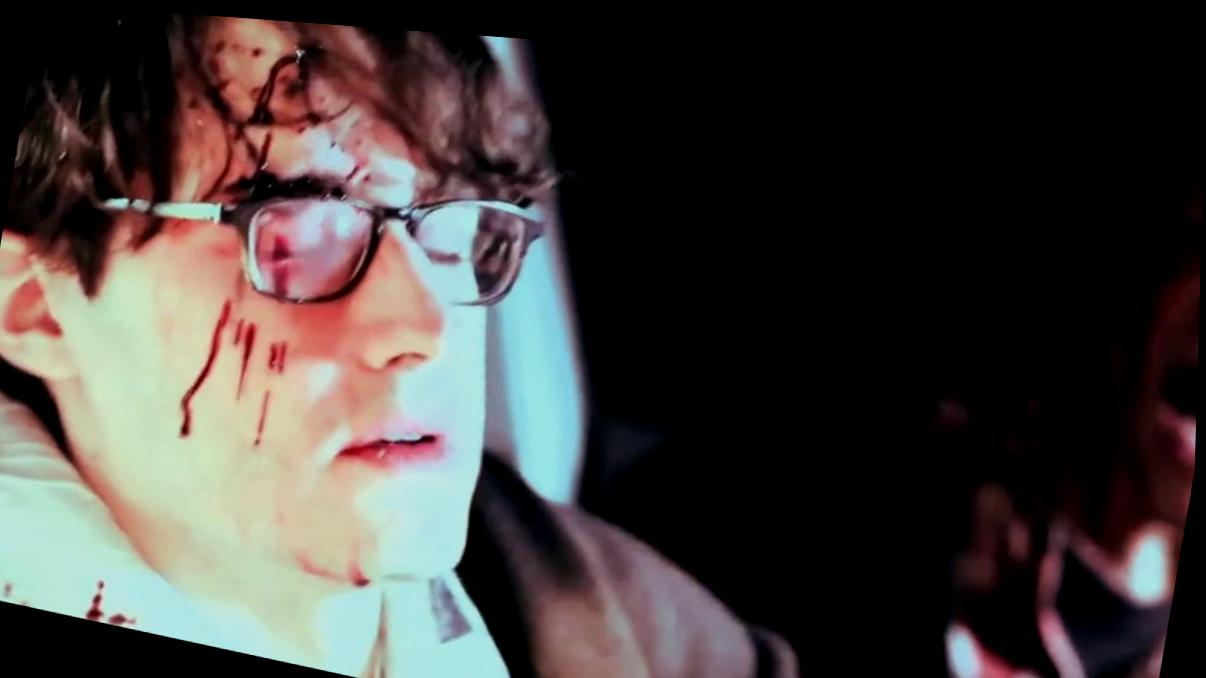Fire: (170, 12, 351, 197), (1091, 304, 1198, 575), (181, 294, 231, 433), (263, 204, 299, 292), (86, 578, 139, 624), (232, 313, 258, 395), (300, 547, 344, 574), (256, 385, 271, 439), (268, 335, 288, 368), (348, 554, 373, 580), (199, 197, 231, 206), (4, 582, 14, 596)
